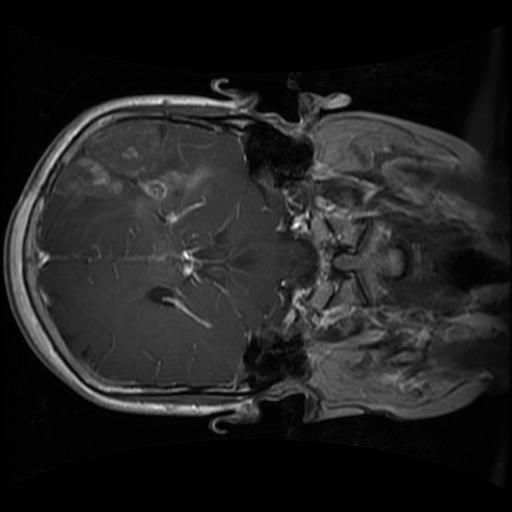glioma: (60, 122, 214, 237)
